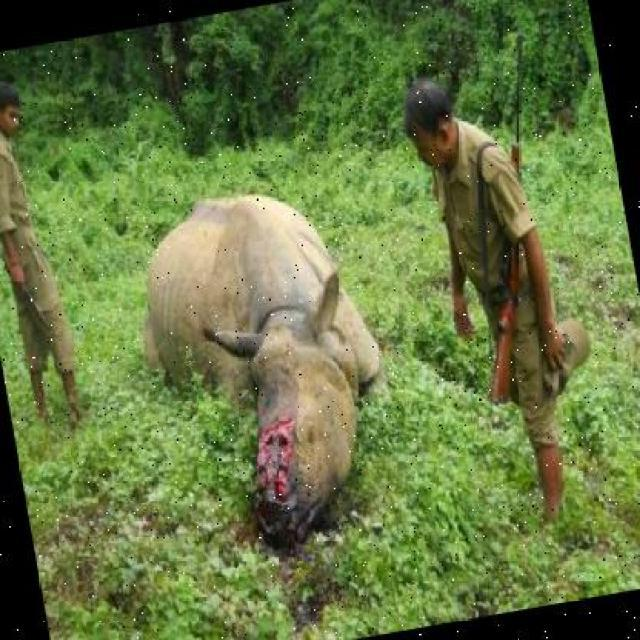ranger: (386, 44, 603, 430)
rhino: (86, 167, 372, 564)
